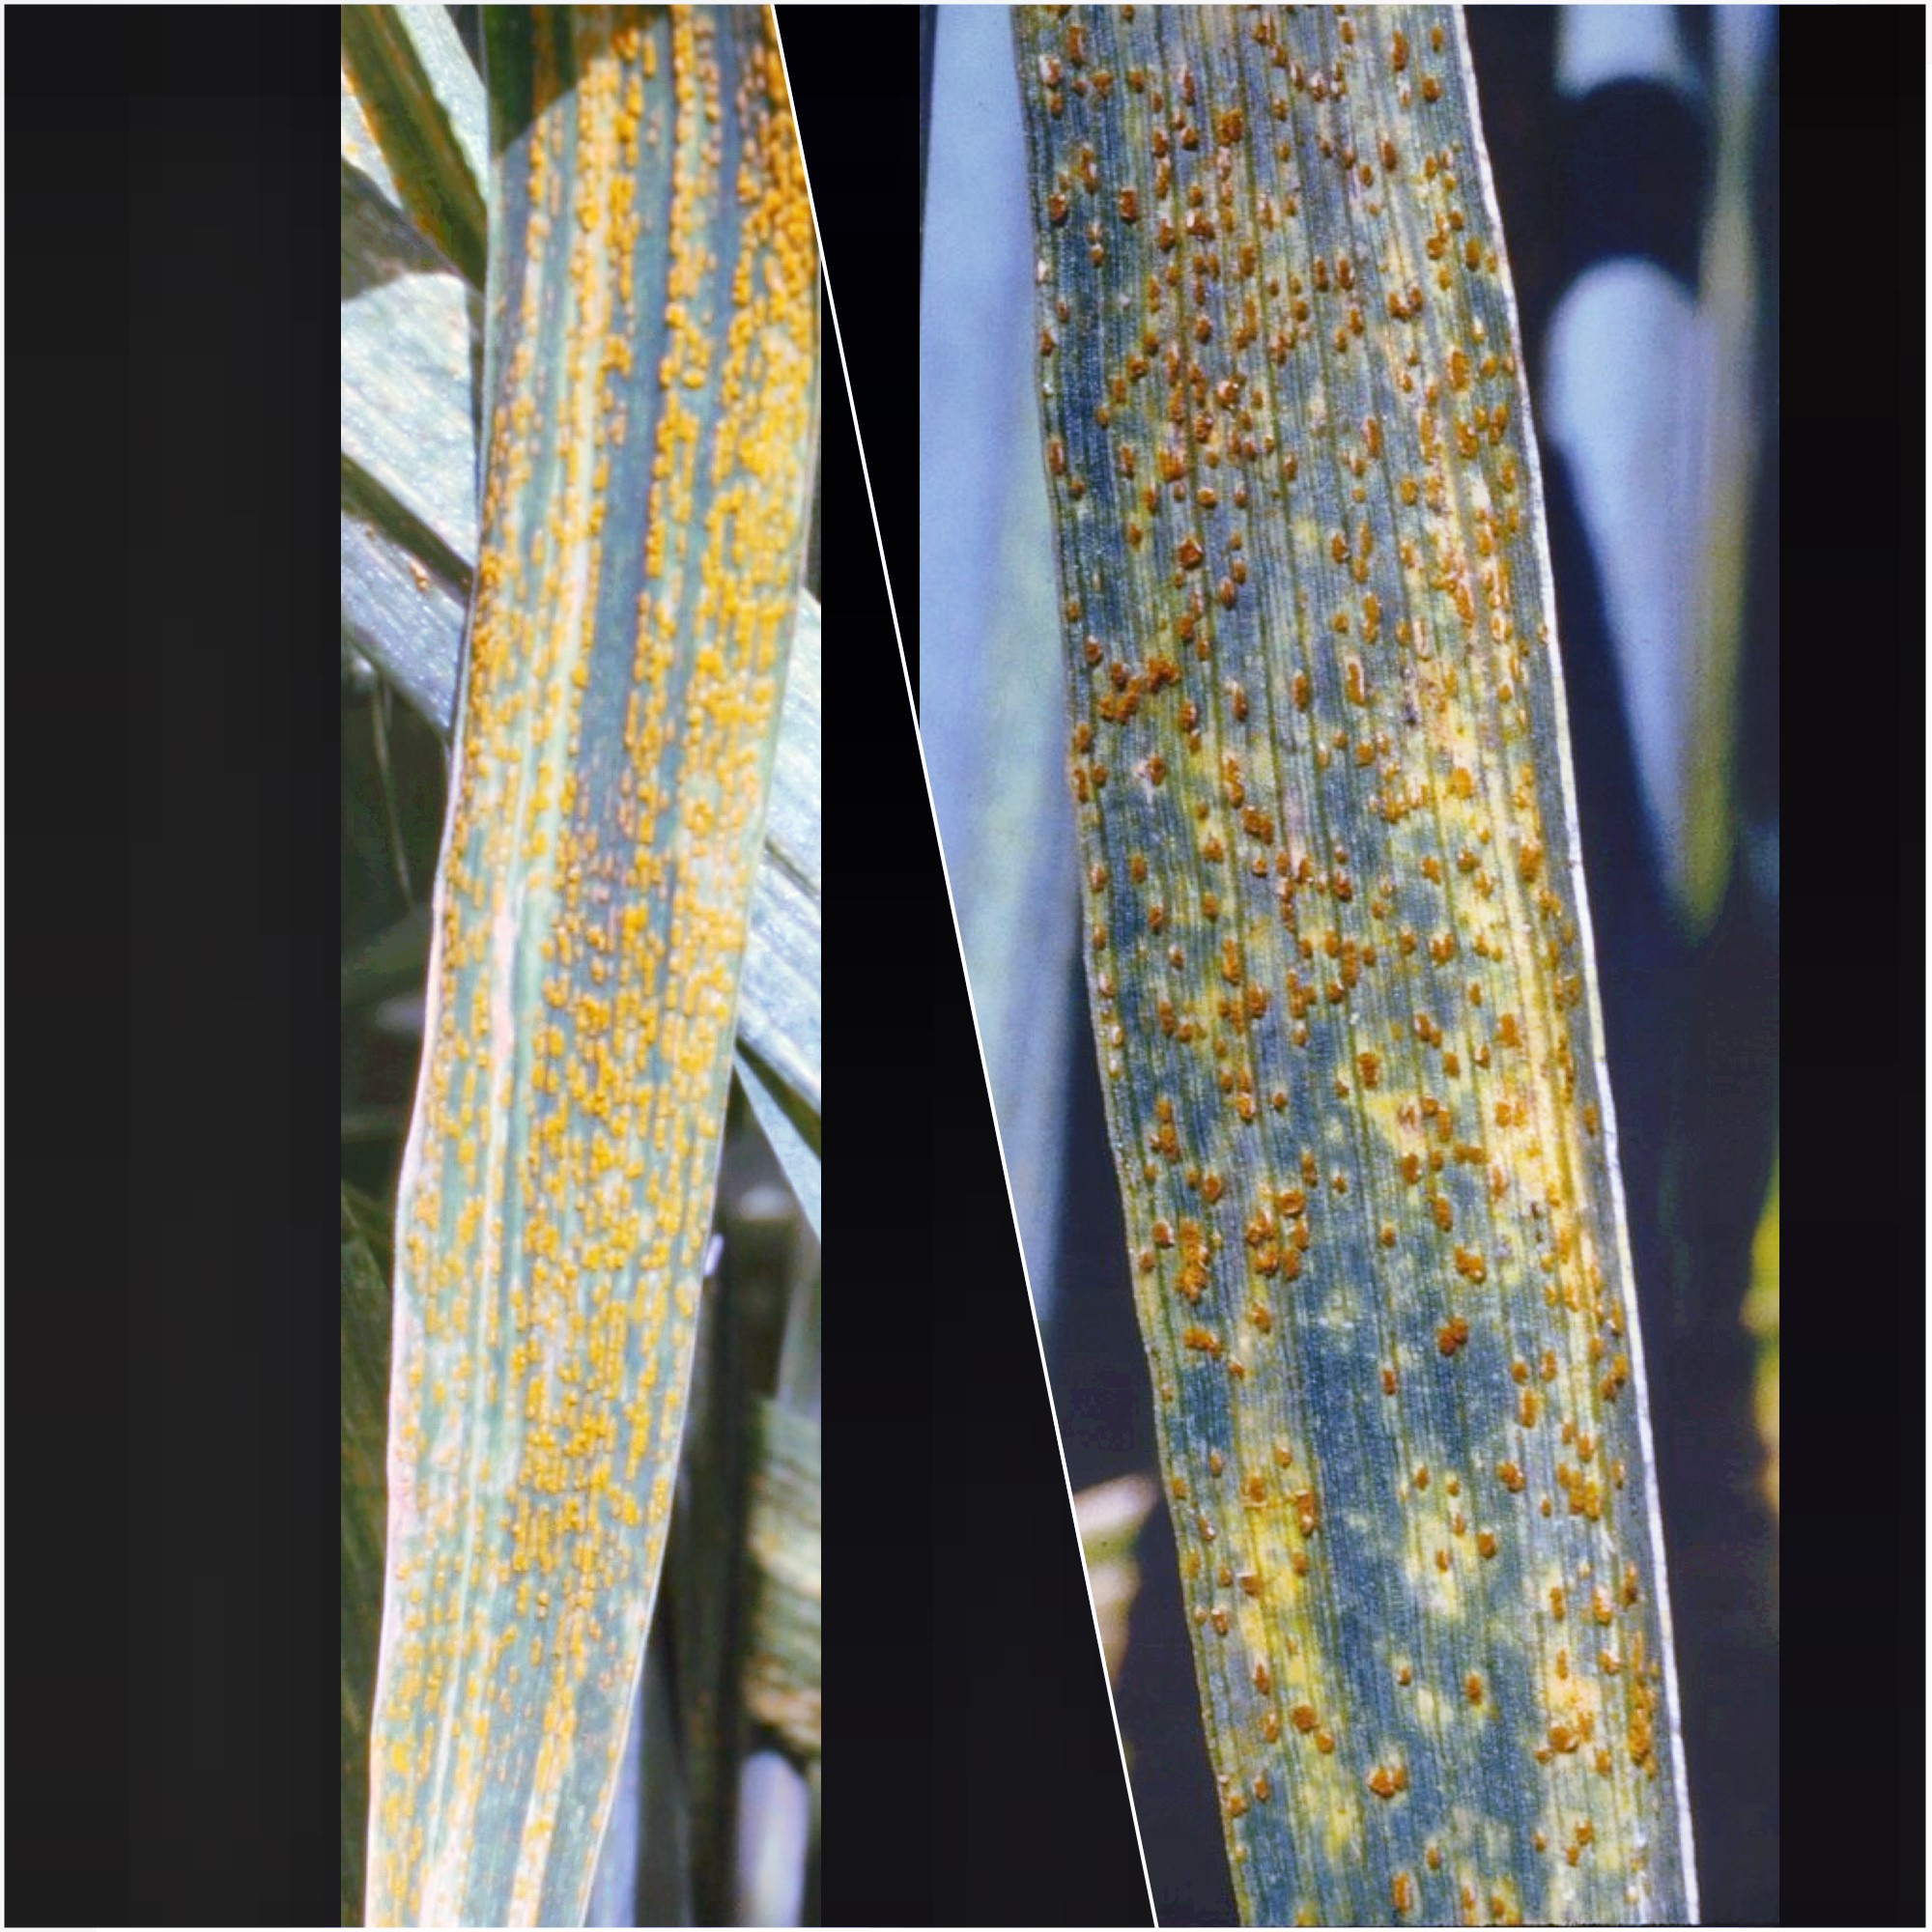Leaf Rust: (1007, 92, 1713, 1771), (361, 92, 837, 1629)
